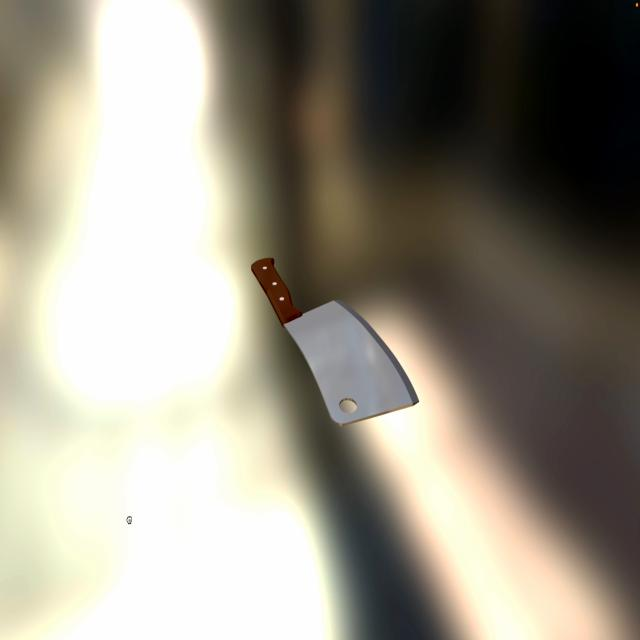cleaver: (249, 253, 422, 425)
